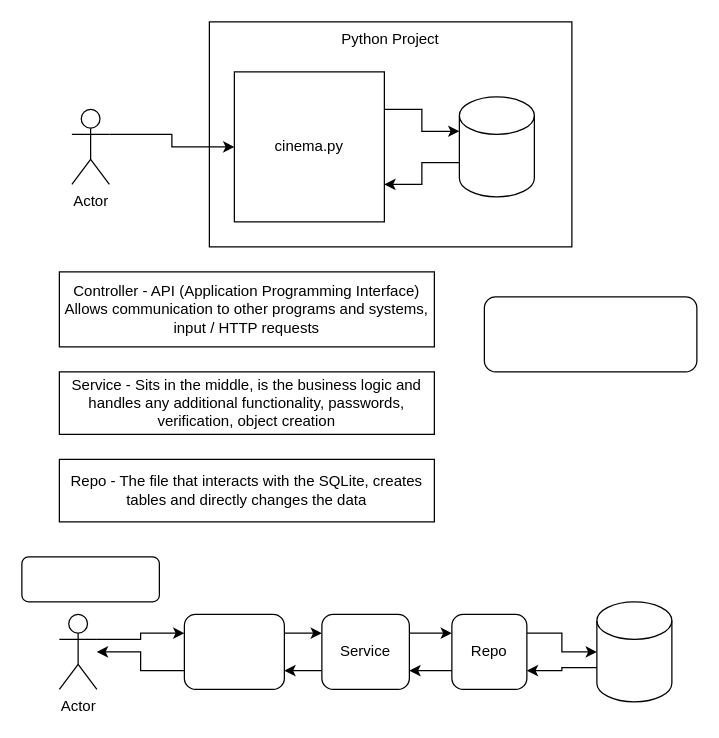
This 719x738 diagram has some shape labels left out. Here are the shapes that lost their labels. From the top down, the centre of each, then its label:
At pixel 496 146: "cinema-db".
At pixel 590 334: "When an animal is added to an enclosure the enclosures availability drops by 1".
At pixel 90 579: "I want to view all movies :)".
At pixel 233 651: "Controller".
At pixel 634 651: "SQLite".
